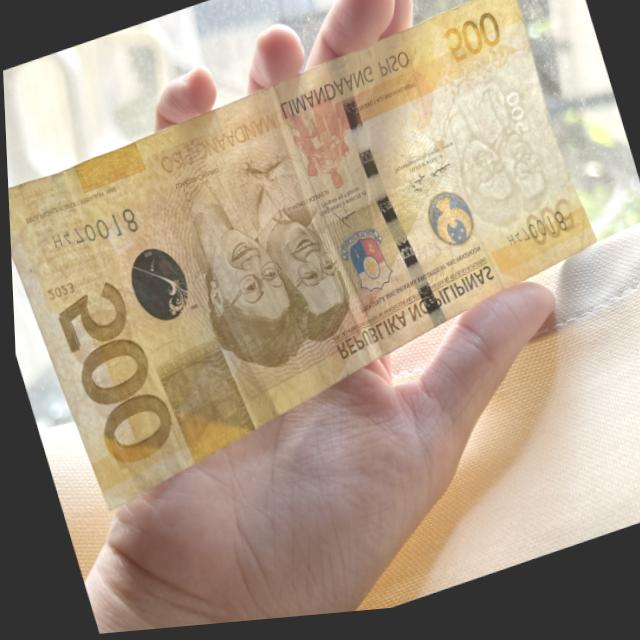concealed_value: (154, 352, 243, 457)
optically_variable_device: (120, 243, 195, 339)
see_through_mark: (437, 55, 513, 102)
value_watermark: (499, 96, 533, 151)
watermark: (421, 72, 567, 273)
